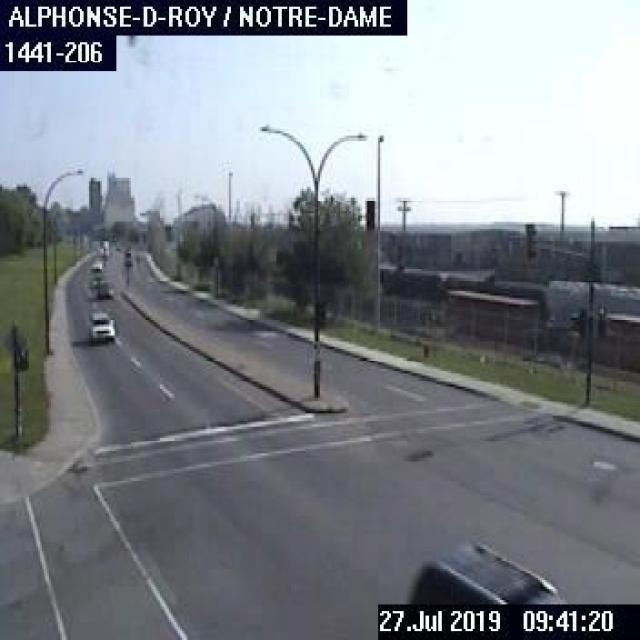vehicle: (406, 538, 569, 604), (85, 309, 116, 342), (82, 274, 113, 302), (86, 257, 102, 278)
